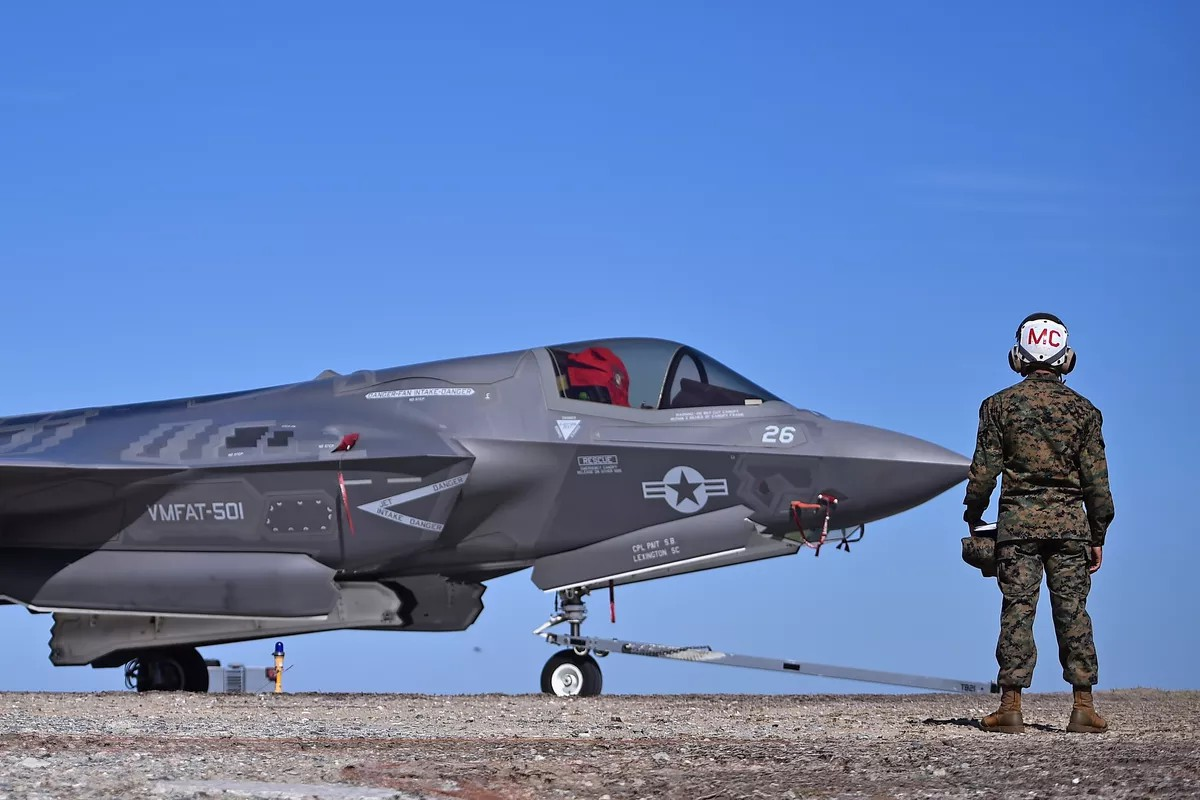F-35 Lightning: (2, 299, 981, 677)
